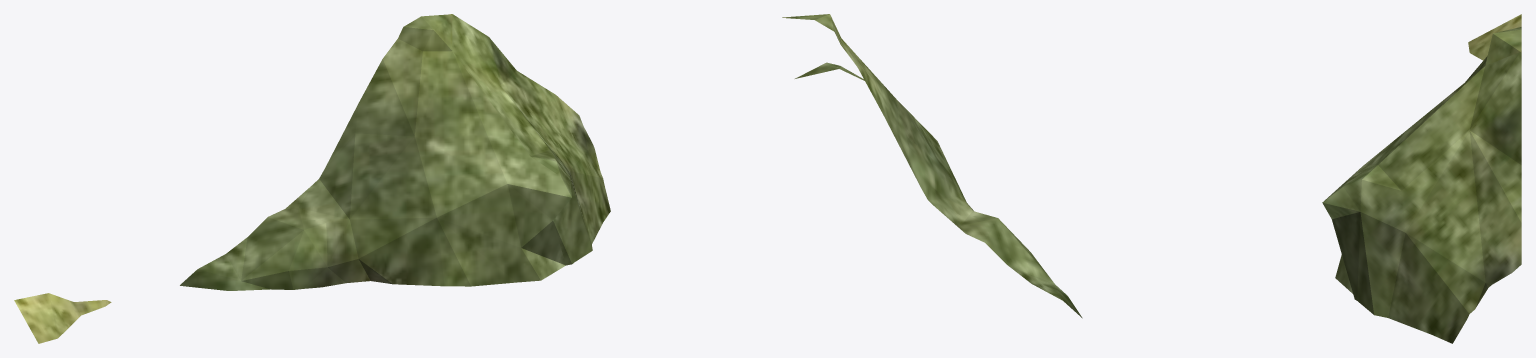
3 views of the same model, side by side, from view 1: azimuth 30°, elevation 25°; view 2: azimuth 150°, elevation 25°; view 3: azimuth 270°, elevation 25° (orthographic). The views are drawn at different scales.
Bounding box in the file's own units: 2.95 × 1.05 × 0.8243.
Materials: 1 (1 with a texture image).
